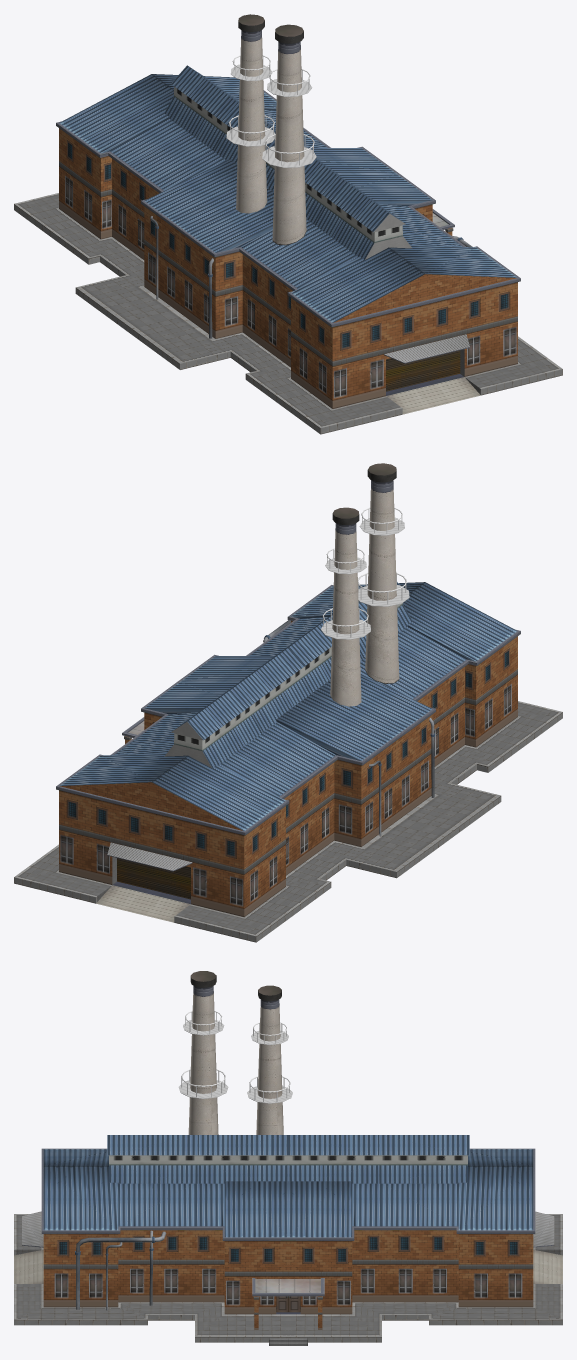
File: Rescaled_final_factory.fbx
3 views of the same model, one above another, from view 1: azimuth 30°, elevation 25°; view 2: azimuth 150°, elevation 25°; view 3: azimuth 270°, elevation 25° (orthographic). The views are drawn at different scales.
Visible parts, largest first — view 1: factory, pCube5, grill_1, grill_2, Grill; view 2: factory, pCube20, grill_1, grill_2; view 3: factory, grill_1, grill_2.
Boxes of the visible parts, <box> form: factory: <box>14,14,562,434</box>; pCube5: <box>386,350,460,391</box>; grill_1: <box>262,134,316,167</box>; grill_2: <box>226,115,274,146</box>; Grill: <box>267,69,311,96</box>; factory: <box>14,463,562,942</box>; pCube20: <box>117,858,190,899</box>; grill_1: <box>358,573,409,606</box>; grill_2: <box>321,608,370,639</box>; factory: <box>14,971,562,1345</box>; grill_1: <box>178,1069,228,1098</box>; grill_2: <box>247,1076,292,1103</box>.
Bounding box in the file's own units: 3905 × 3496 × 6304.
2 materials, 2 textured.
